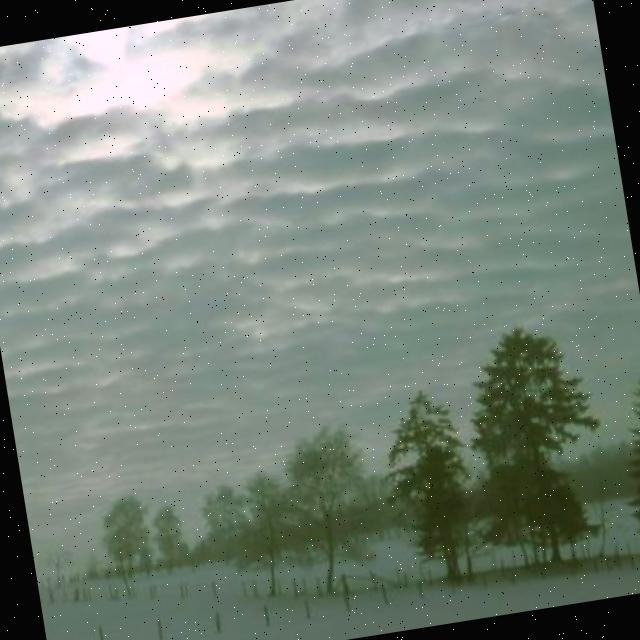Ac: (1, 1, 610, 424)
